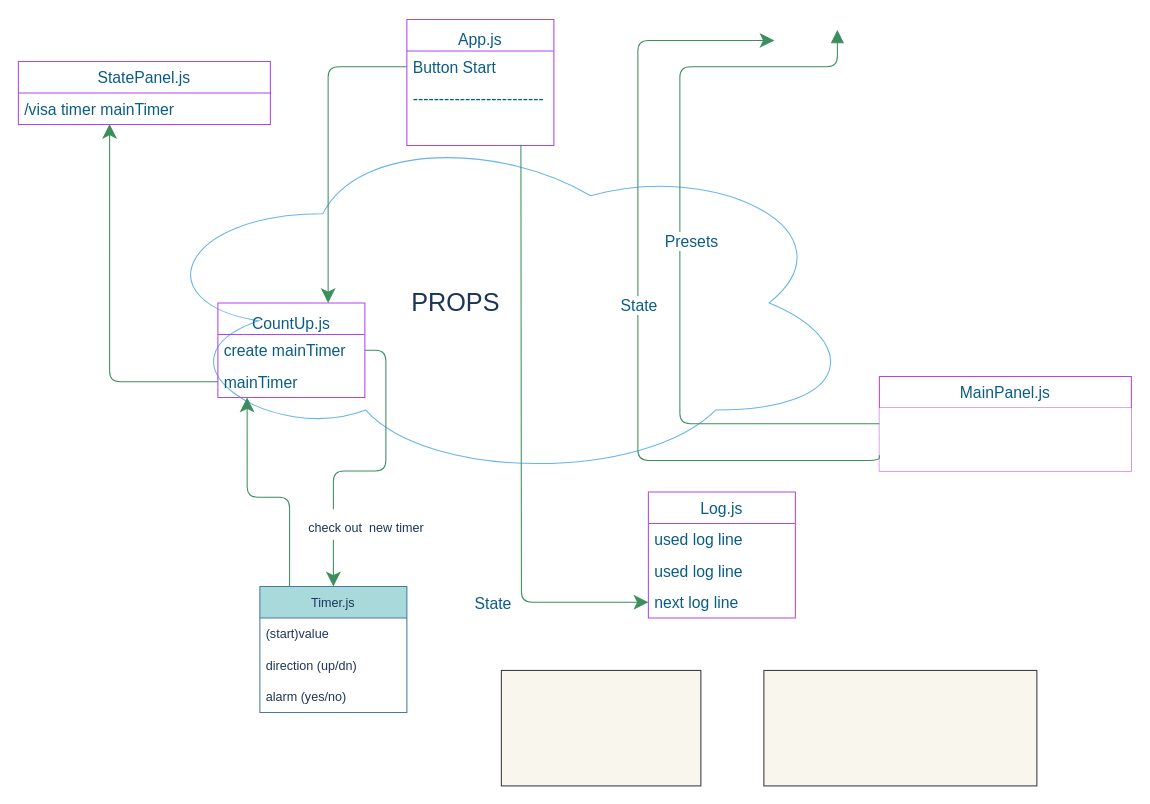
Some shapes in this 1150 by 804 pixel diagram are drawn without their labels. Here are the shapes that lost their labels. From the top down, the centre of each, then its label:
At point 1005,423: "timer onClick".
At point 1005,454: "Mash / Boil onClick".
At point 600,727: "State = process state of: prepare, mash, boil [ , cool, done ]".
At point 900,727: "Presets: buttonID, timerId, preset[1-4] , alarm [1-2]".
